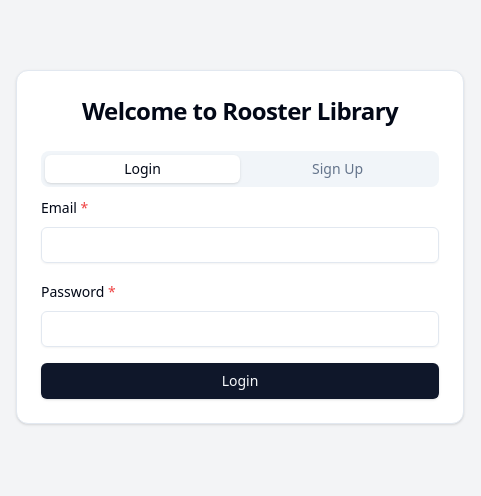
Test: LoginPage › Rendering › switches to signup form when Sign Up tab is clicked
Click the tab "Sign Up".
click(338, 169)  # box [240,155,435,183]
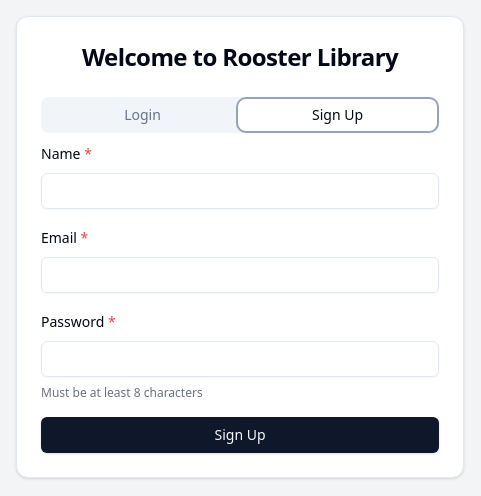
Check: the field labelled "Name *" is shown, box [41,173,439,209]
